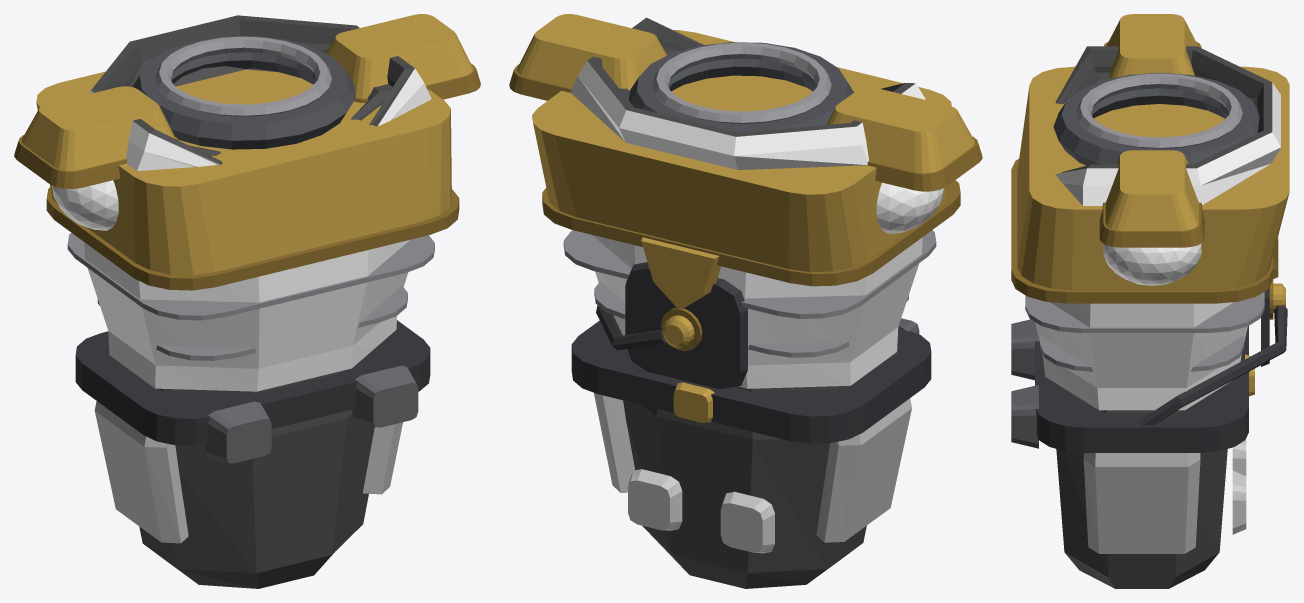
Rendered from person_female_vge_prestige_vacsuit.obj.
The picture shows the model from 3 angles, left to right: view 1: azimuth 30°, elevation 25°; view 2: azimuth 150°, elevation 25°; view 3: azimuth 270°, elevation 25°; orthographic projection. The views are drawn at different scales.
Visible parts, largest first — view 1: person_female_vge_prestige_vacsuit; view 2: person_female_vge_prestige_vacsuit; view 3: person_female_vge_prestige_vacsuit.
Part boxes in pixels (box(x1,y1,x2,y2)): person_female_vge_prestige_vacsuit: box(14, 14, 480, 588); person_female_vge_prestige_vacsuit: box(509, 14, 982, 588); person_female_vge_prestige_vacsuit: box(1011, 14, 1289, 588).
Size of the model in its own units: 0.7488 by 0.805 by 0.4486.
